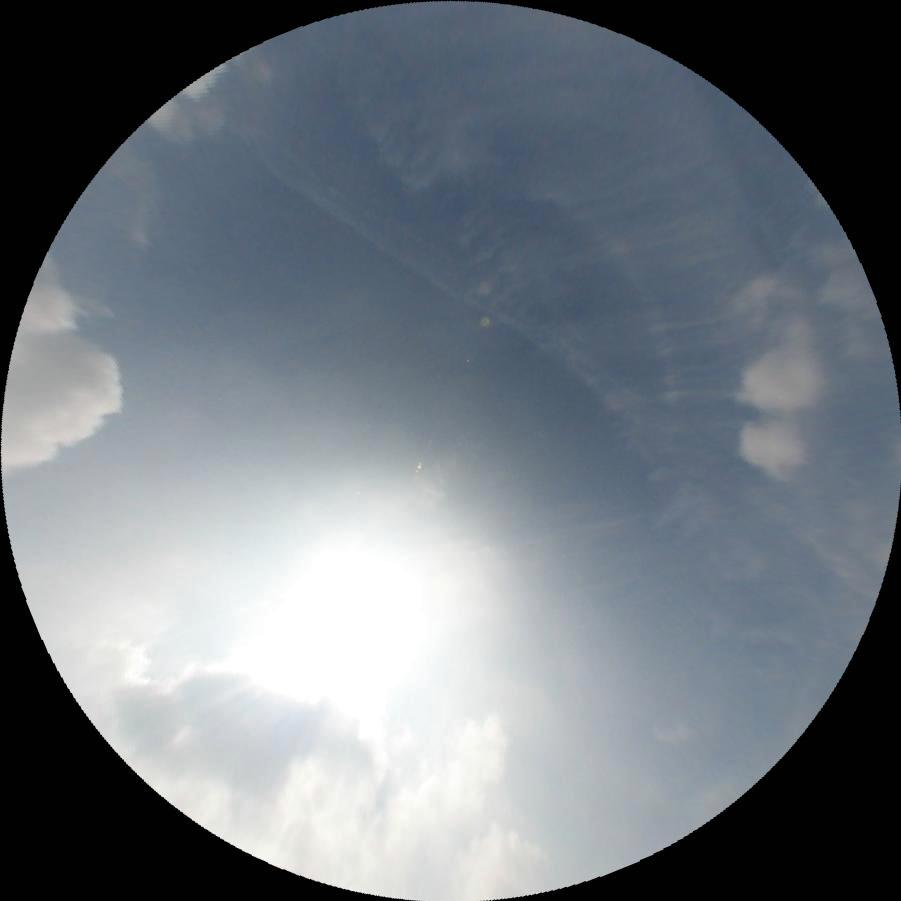contrail veryold: (208, 93, 894, 603)
sun: (242, 530, 437, 733)
